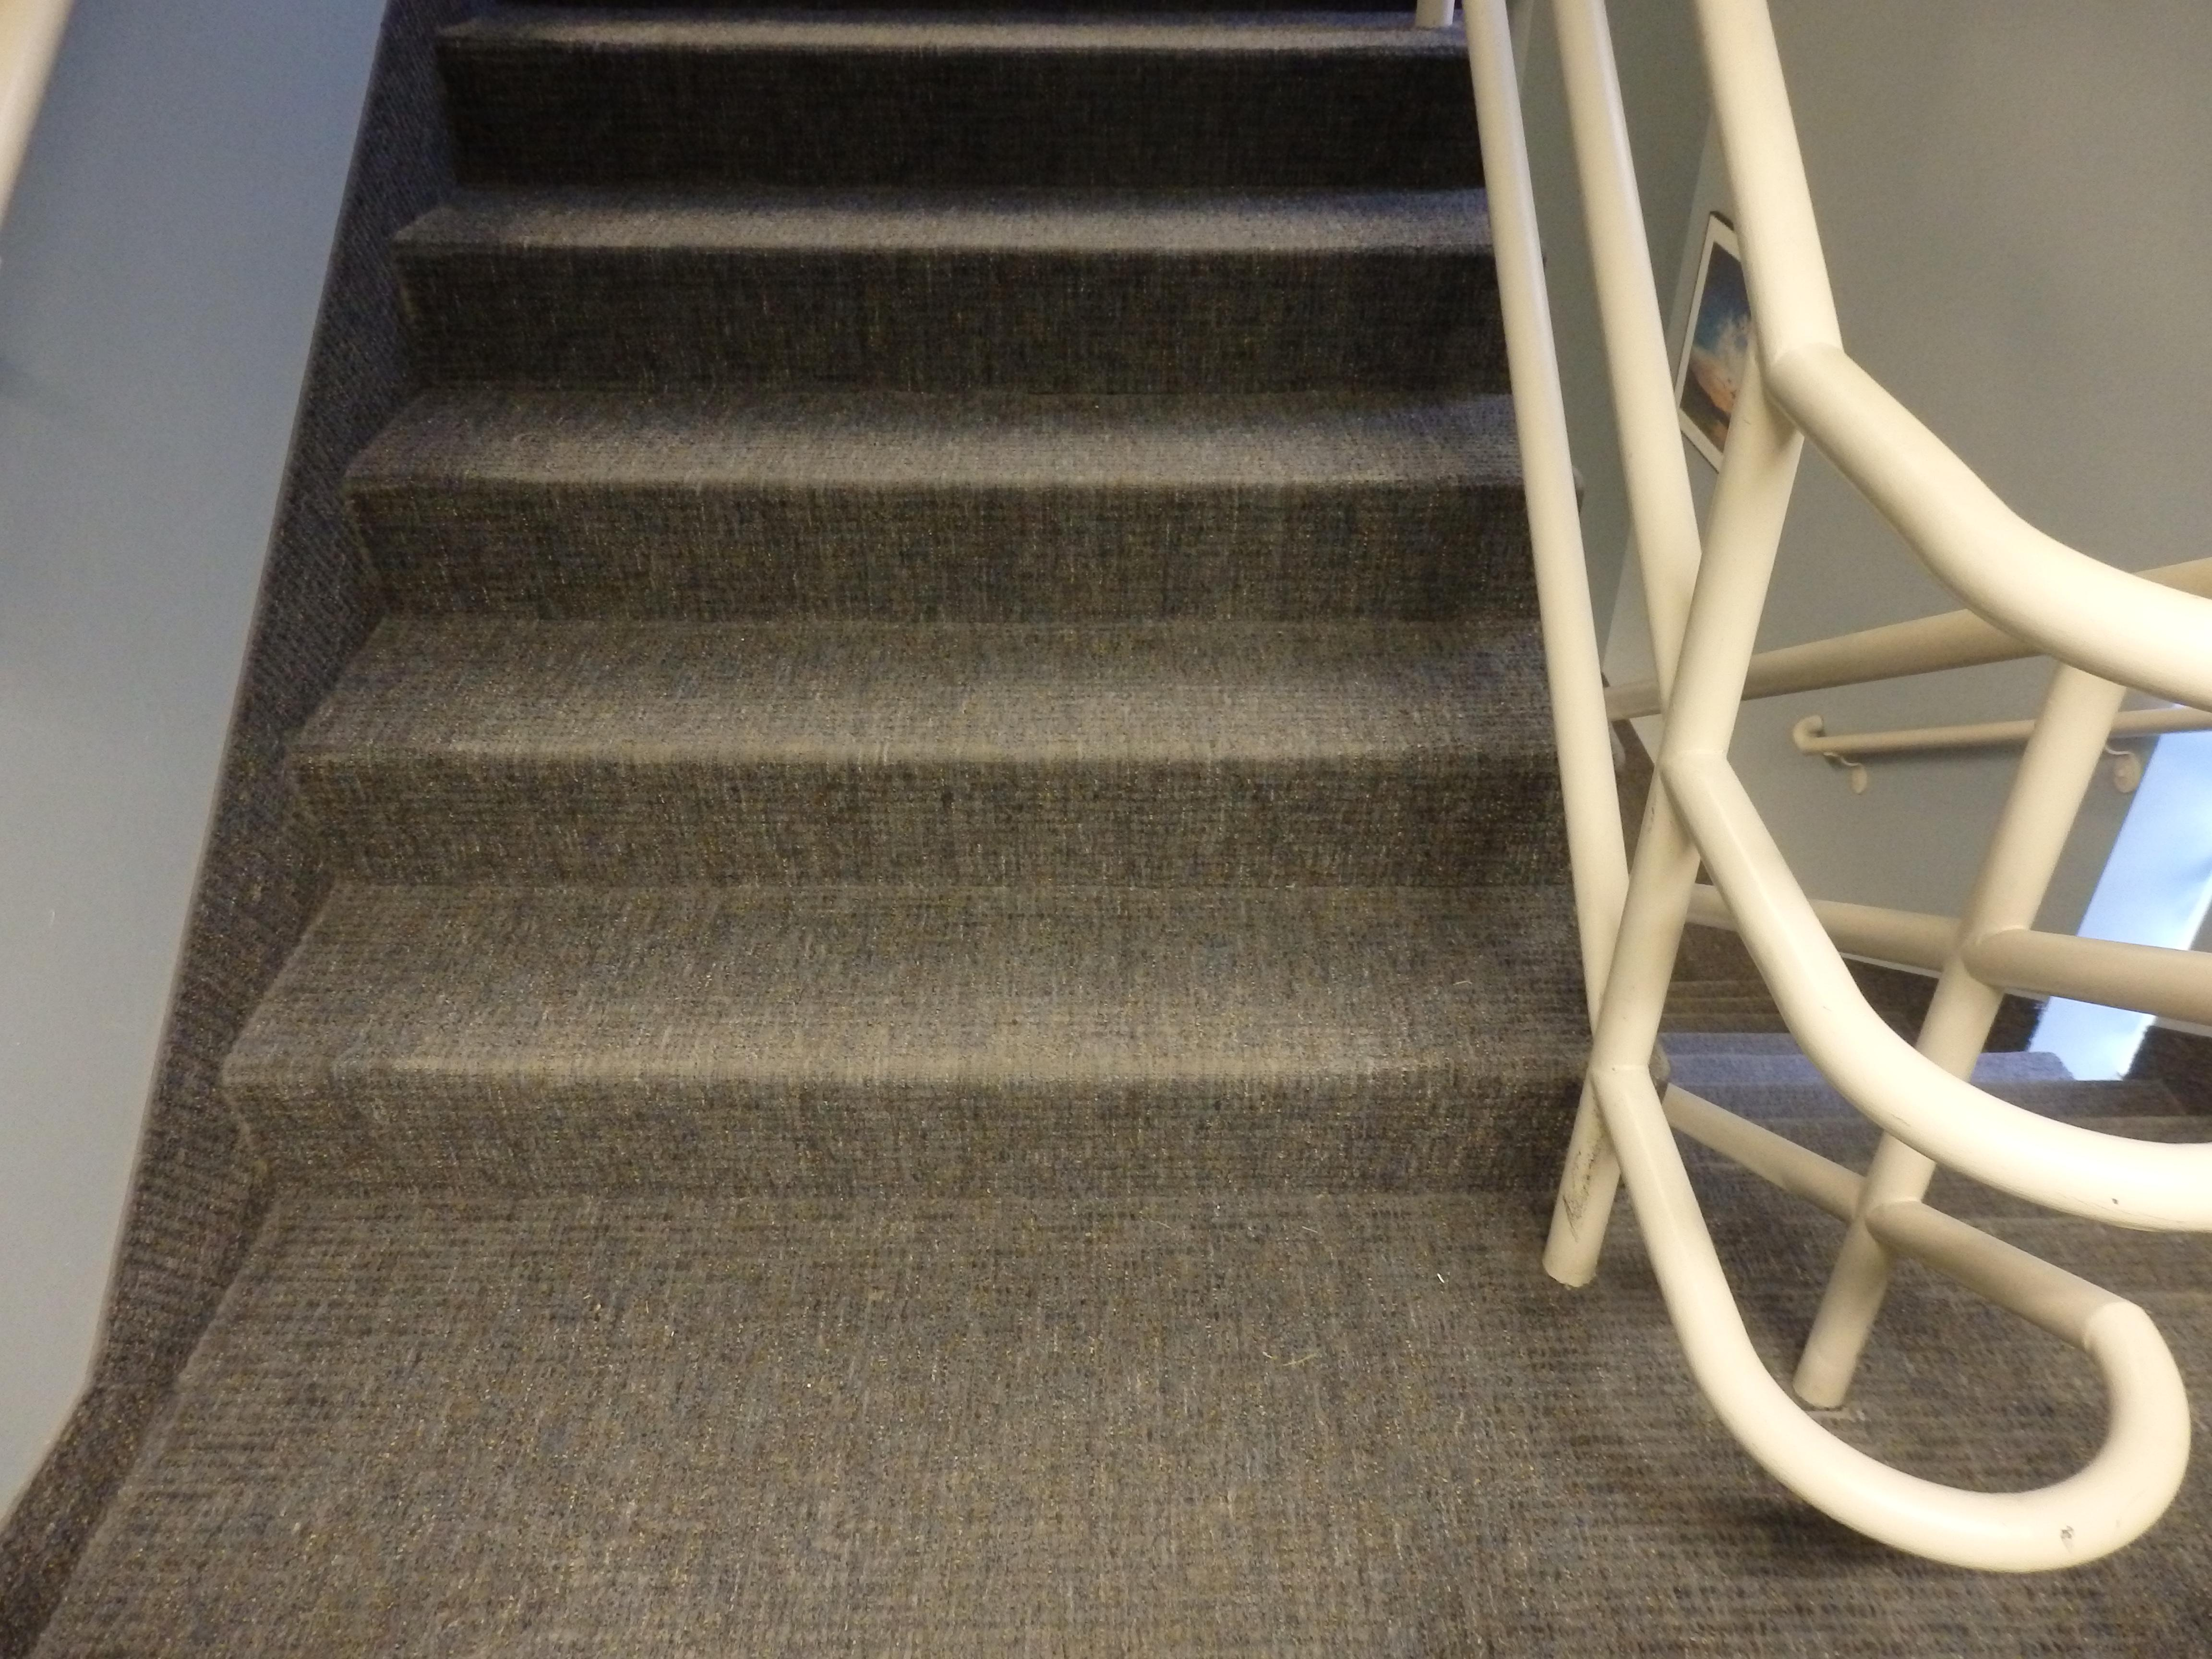stairs_up: (244, 21, 1611, 1375)
